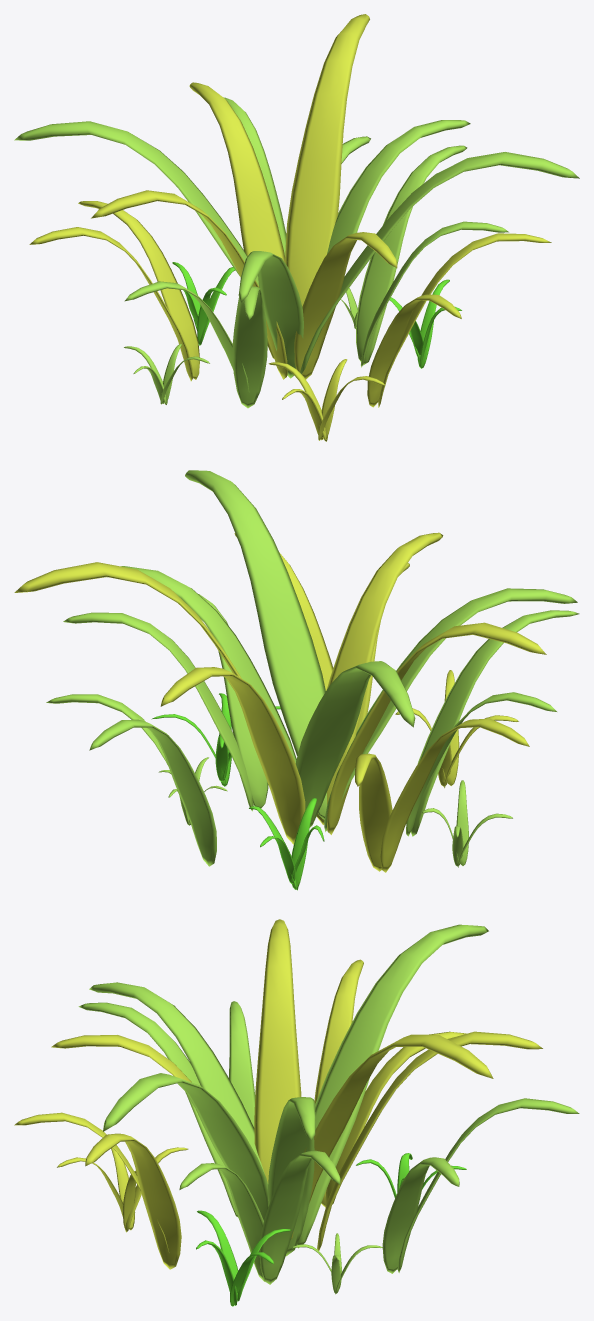
File: grass 1.fbx
3 renders of one model, top to bottom at view 1: azimuth 30°, elevation 25°; view 2: azimuth 150°, elevation 25°; view 3: azimuth 270°, elevation 25°, orthographic. The views are drawn at different scales.
Parts seen in each view (by area): view 1: Plane.005; view 2: Plane.005; view 3: Plane.005.
Boxes of the visible parts, bbox=[...] form: Plane.005: bbox=[14, 14, 579, 441]; Plane.005: bbox=[14, 470, 579, 890]; Plane.005: bbox=[14, 919, 579, 1306].
Bounding box in the file's own units: 822 × 482 × 876.
